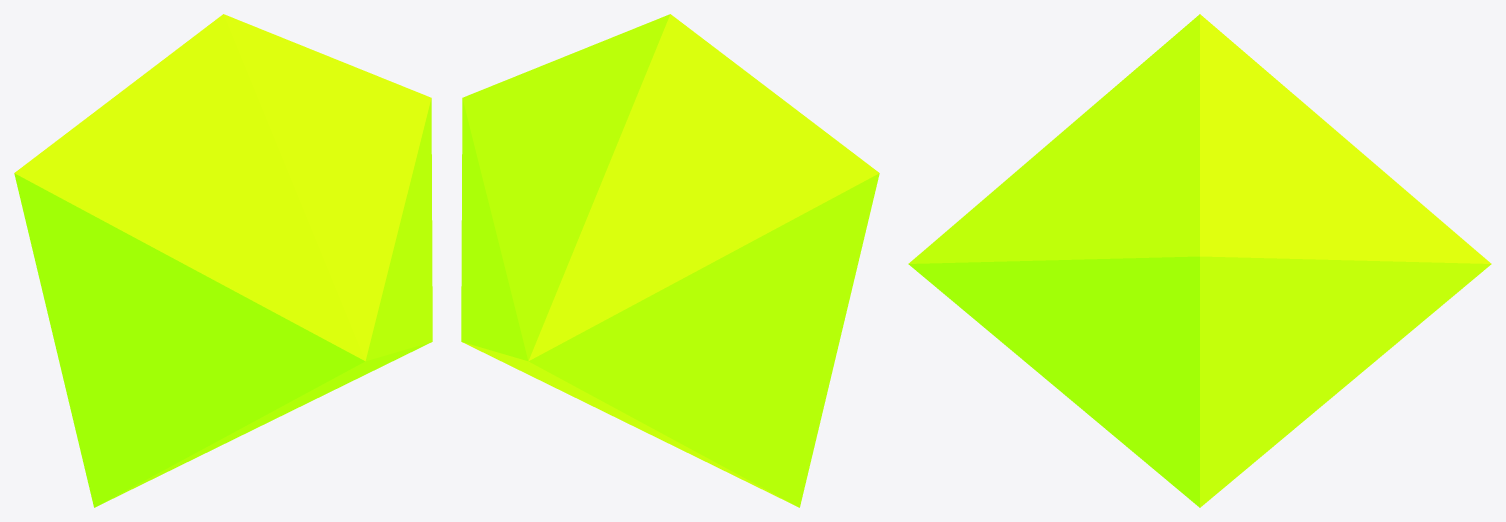
Rendered from Blob.gltf.
3 views of the same model, side by side, from view 1: azimuth 30°, elevation 25°; view 2: azimuth 150°, elevation 25°; view 3: azimuth 270°, elevation 25° (orthographic). The views are drawn at different scales.
Visible parts, largest first — view 1: Blob; view 2: Blob; view 3: Blob.
Part boxes in pixels (left/top/right/bottom): Blob: left=14, top=14, right=432, bottom=507; Blob: left=461, top=14, right=879, bottom=507; Blob: left=908, top=14, right=1491, bottom=507.
Size of the model in its own units: 0.118 by 0.1246 by 0.1388.
